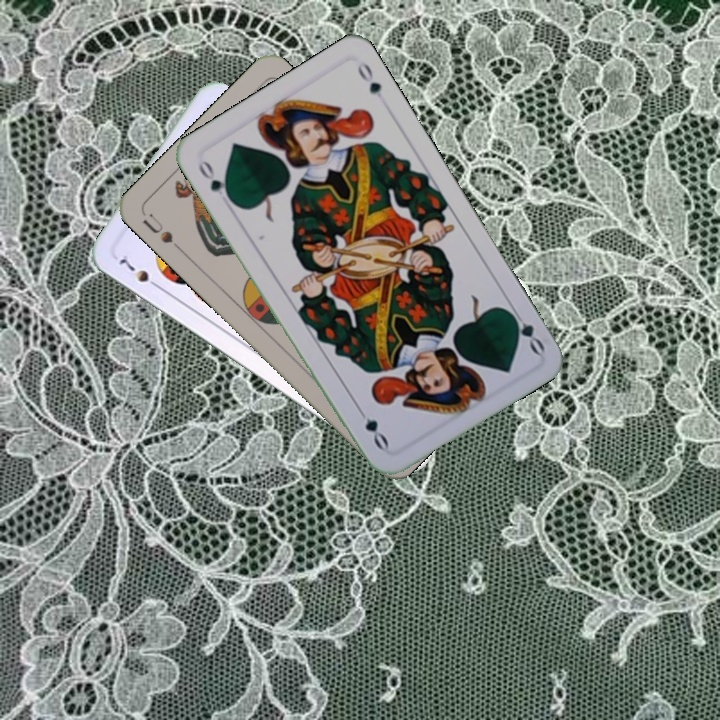GO: (503, 303, 548, 357), (194, 155, 236, 206)
S7: (112, 250, 164, 292)
SU: (139, 209, 186, 255)
